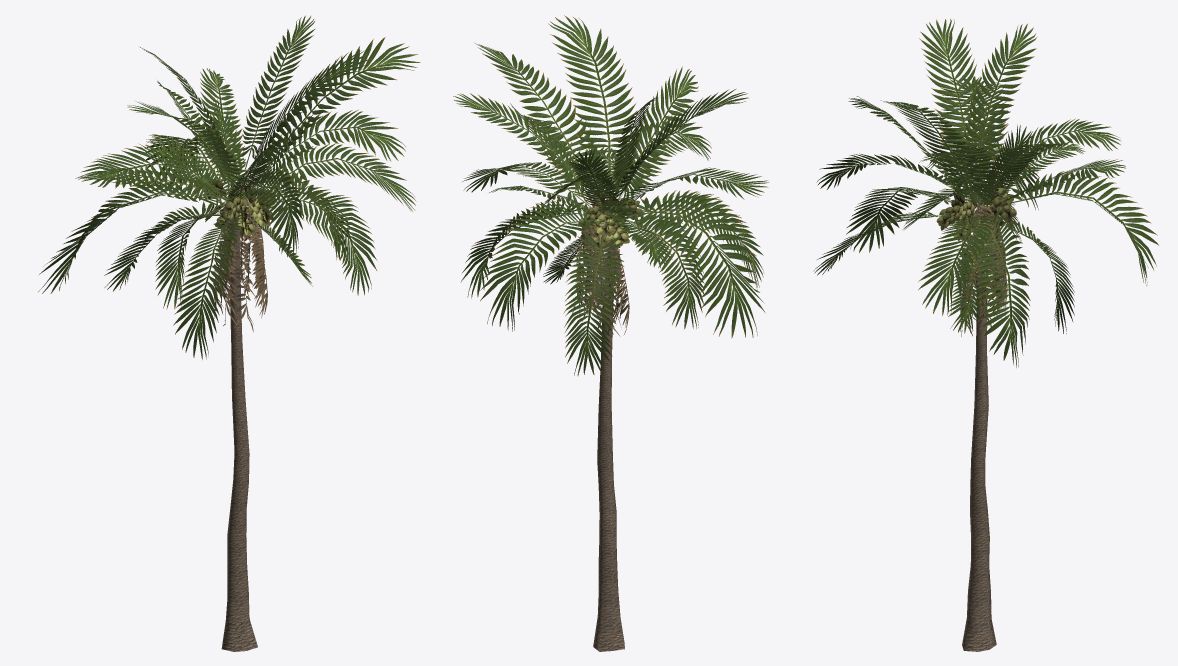
Rendered from Cocos_Nucifera_Autumn_Adult.glb.
The picture shows the model from 3 angles, left to right: view 1: azimuth 30°, elevation 25°; view 2: azimuth 150°, elevation 25°; view 3: azimuth 270°, elevation 25°; orthographic projection. The views are drawn at different scales.
Visible parts, largest first — view 1: Cocos_Nucifera_Autumn_Adult__LOD3; view 2: Cocos_Nucifera_Autumn_Adult__LOD3; view 3: Cocos_Nucifera_Autumn_Adult__LOD3.
Part boxes in pixels (x1,y1,x2,y2): Cocos_Nucifera_Autumn_Adult__LOD3: [38, 15, 420, 651]; Cocos_Nucifera_Autumn_Adult__LOD3: [453, 15, 768, 651]; Cocos_Nucifera_Autumn_Adult__LOD3: [813, 19, 1158, 651].
Size of the model in its own units: 14.76 by 22.92 by 12.72.
3 materials, 3 textured.
